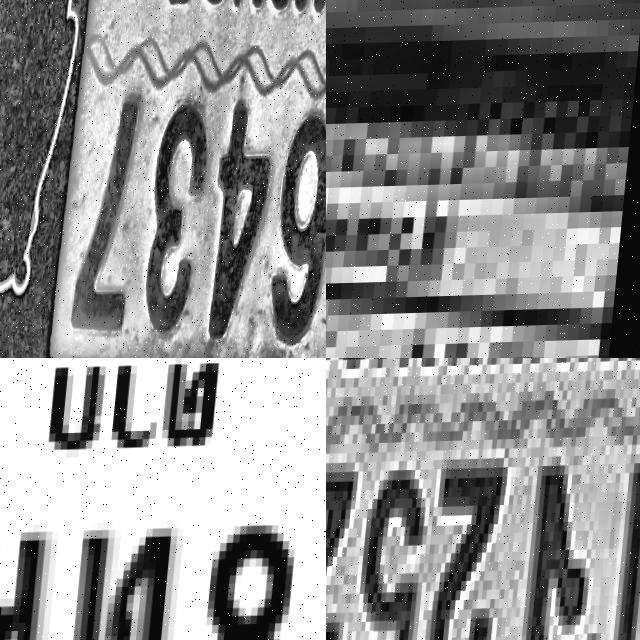license-plate: (0, 0, 326, 358), (326, 38, 640, 358), (0, 358, 326, 640), (326, 358, 640, 640)
